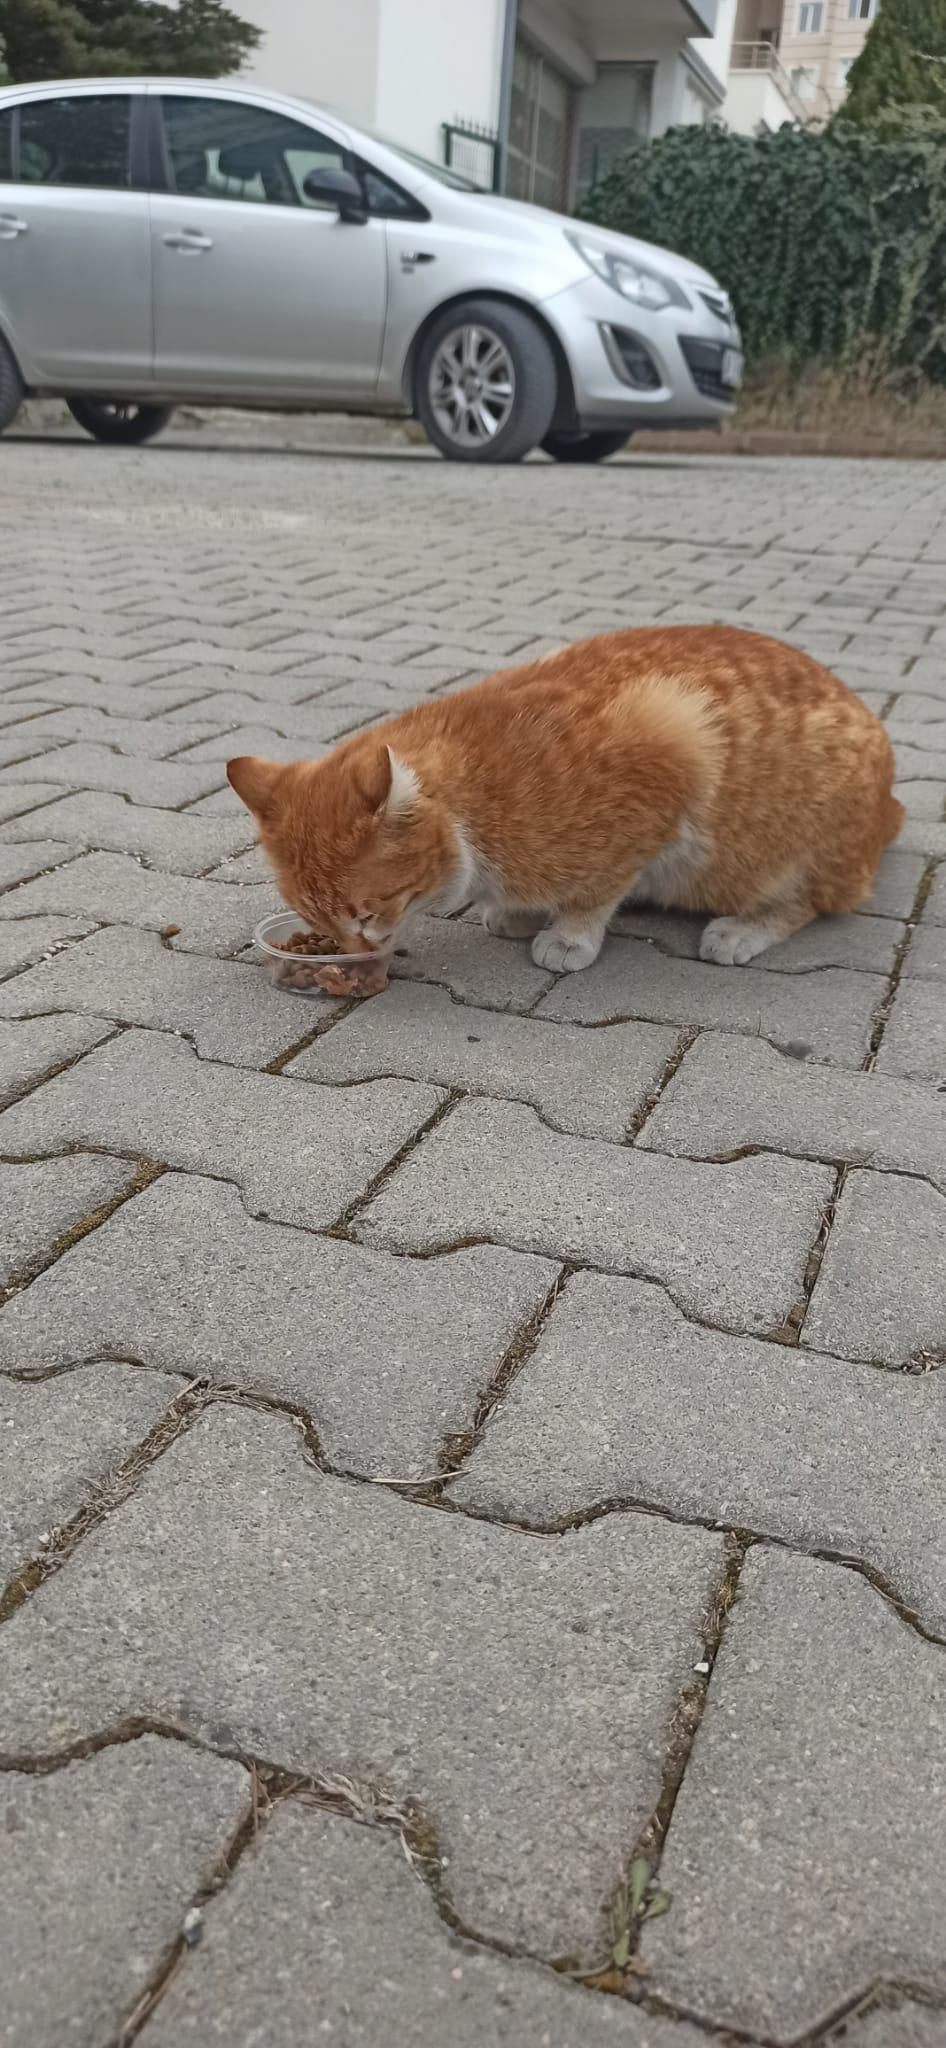kedo: (230, 617, 905, 970)
